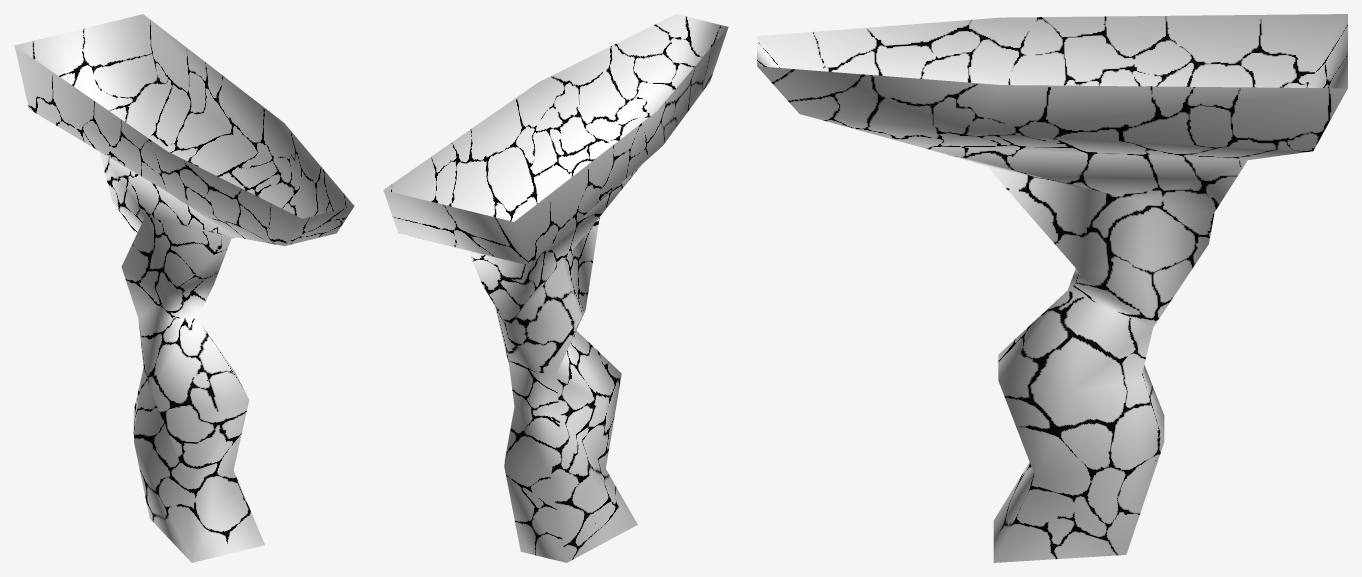
The model's file is Stone_02_01.fbx.
The picture shows the model from 3 angles, left to right: view 1: azimuth 30°, elevation 25°; view 2: azimuth 150°, elevation 25°; view 3: azimuth 270°, elevation 25°; orthographic projection. The views are drawn at different scales.
Parts seen in each view (by area): view 1: Stone_02_01; view 2: Stone_02_01; view 3: Stone_02_01.
Boxes of the visible parts, x1,y1,x2,y2 form: Stone_02_01: [14, 14, 354, 562]; Stone_02_01: [383, 14, 728, 562]; Stone_02_01: [757, 14, 1347, 562].
Size of the model in its own units: 16.61 by 51.09 by 55.76.
